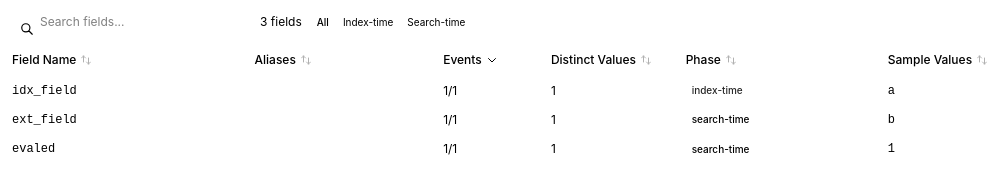
Test: FieldsTab › filters to index-time only when Index-time pill is clicked
Click the button "Index-time": (368, 22) [337,12,399,32]
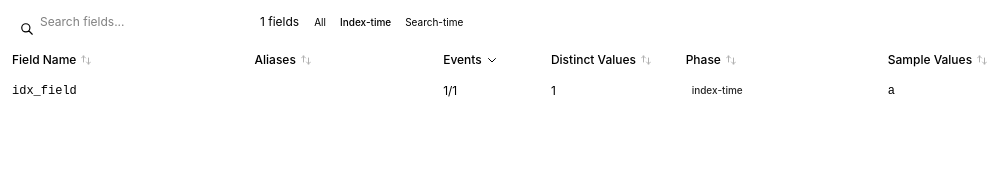
Check: the text "ext_field" is gone
Check: the text "evaled" is gone
Check: the text "1 fields" is shown, box [260,14,299,30]
